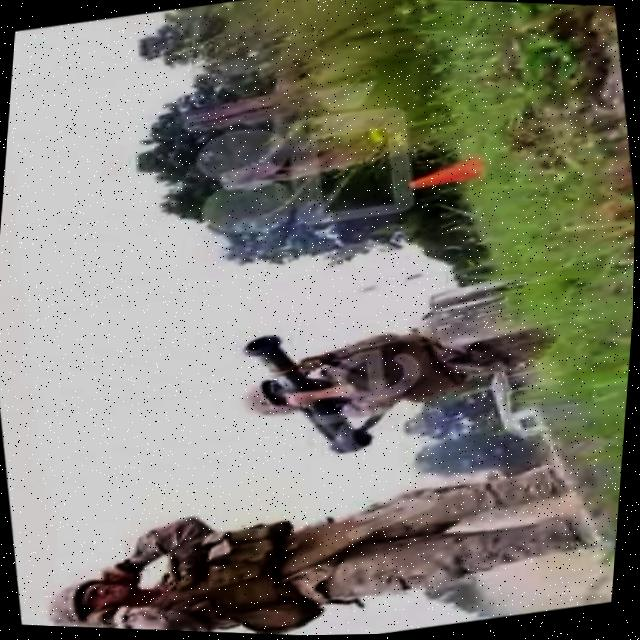rocket: (234, 319, 391, 476)
